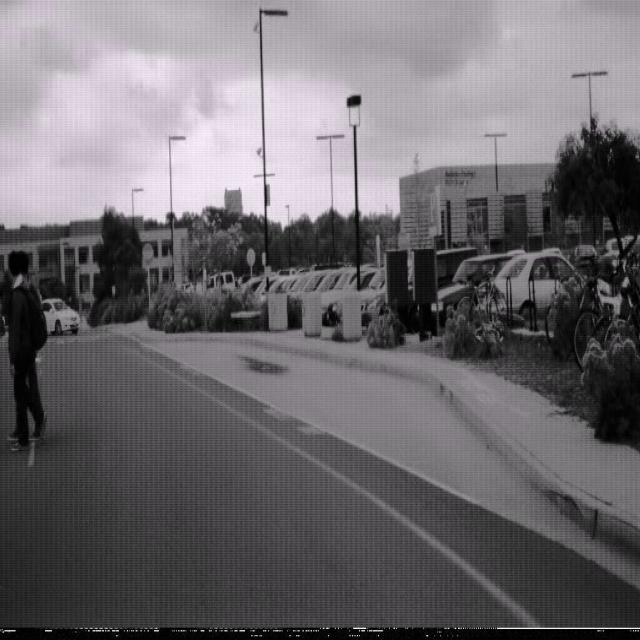stop_sign: (397, 228, 409, 253), (142, 242, 154, 267)
